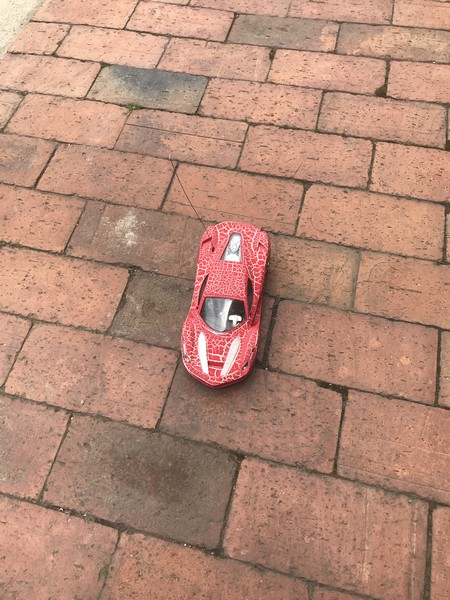RC: (179, 218, 271, 389)
